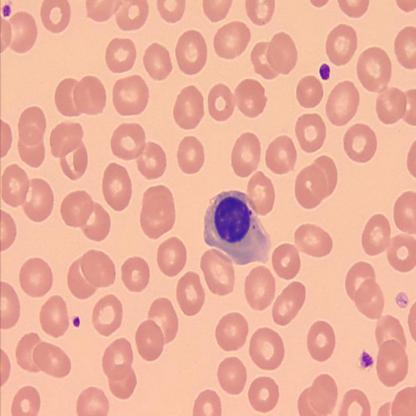NRC: (202, 187, 273, 266)
